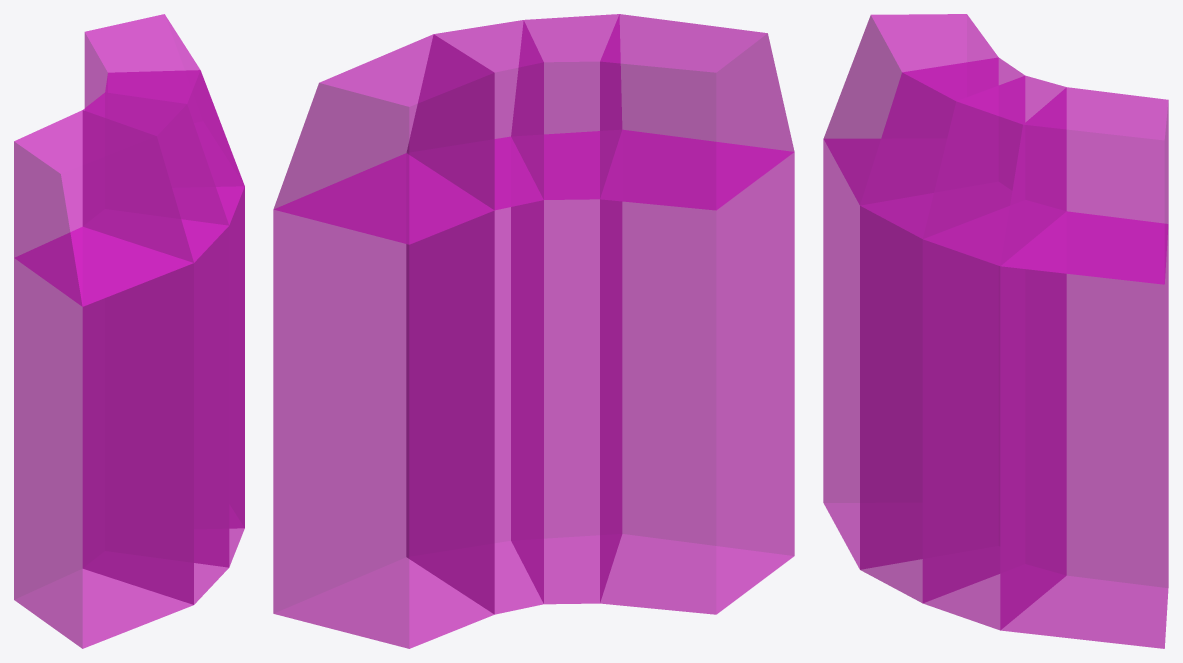
File: SM_Bld_Wall_L_Curve_05_Collision.fbx
The picture shows the model from 3 angles, left to right: view 1: azimuth 30°, elevation 25°; view 2: azimuth 150°, elevation 25°; view 3: azimuth 270°, elevation 25°; orthographic projection. The views are drawn at different scales.
Parts seen in each view (by area): view 1: SM_Bld_Wall_L_Curve_05_Collision; view 2: SM_Bld_Wall_L_Curve_05_Collision; view 3: SM_Bld_Wall_L_Curve_05_Collision.
Boxes of the visible parts, bbox=[...] form: SM_Bld_Wall_L_Curve_05_Collision: bbox=[14, 14, 244, 648]; SM_Bld_Wall_L_Curve_05_Collision: bbox=[273, 14, 794, 648]; SM_Bld_Wall_L_Curve_05_Collision: bbox=[823, 14, 1168, 648].
Bounding box in the file's own units: 389 × 604 × 387.
